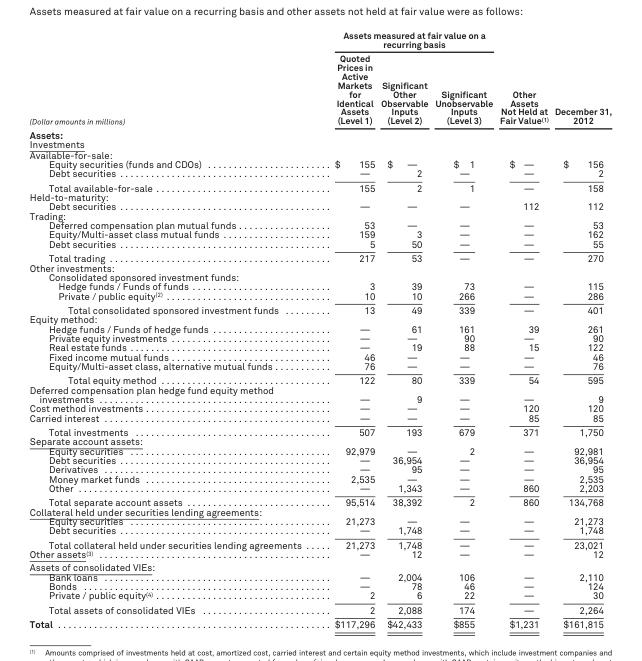table: (28, 29, 611, 629)
table column: (28, 29, 317, 629), (431, 29, 495, 629), (550, 29, 611, 629), (317, 29, 377, 629), (495, 29, 550, 629), (377, 29, 431, 629)
table column header: (28, 29, 611, 127)
table projected row header: (28, 127, 611, 139), (28, 560, 611, 571), (28, 139, 611, 149), (28, 149, 611, 159), (28, 262, 611, 272), (28, 192, 611, 201), (28, 211, 611, 220), (28, 272, 611, 281), (28, 314, 611, 323), (28, 436, 611, 445), (28, 507, 611, 516)
table row: (28, 50, 611, 127), (28, 29, 611, 50), (28, 384, 611, 403), (28, 602, 611, 616), (28, 616, 611, 629), (28, 127, 611, 139), (28, 168, 611, 180), (28, 180, 611, 192), (28, 250, 611, 262), (28, 290, 611, 302), (28, 302, 611, 314), (28, 361, 611, 373), (28, 412, 611, 424), (28, 424, 611, 436), (28, 483, 611, 495), (28, 495, 611, 507), (28, 525, 611, 537), (28, 537, 611, 549), (28, 590, 611, 602), (28, 239, 611, 250), (28, 373, 611, 384), (28, 549, 611, 560), (28, 560, 611, 571), (28, 139, 611, 149), (28, 149, 611, 159), (28, 201, 611, 211), (28, 229, 611, 239), (28, 262, 611, 272), (28, 323, 611, 333), (28, 351, 611, 361), (28, 445, 611, 455), (28, 473, 611, 483), (28, 571, 611, 581), (28, 159, 611, 168), (28, 192, 611, 201), (28, 211, 611, 220), (28, 220, 611, 229), (28, 272, 611, 281), (28, 281, 611, 290), (28, 314, 611, 323), (28, 333, 611, 342), (28, 342, 611, 351), (28, 403, 611, 412), (28, 436, 611, 445), (28, 455, 611, 464), (28, 464, 611, 473), (28, 507, 611, 516), (28, 516, 611, 525), (28, 581, 611, 590)
table spanning cell: (28, 29, 317, 127), (550, 29, 611, 127), (495, 29, 550, 127), (317, 29, 495, 50)
